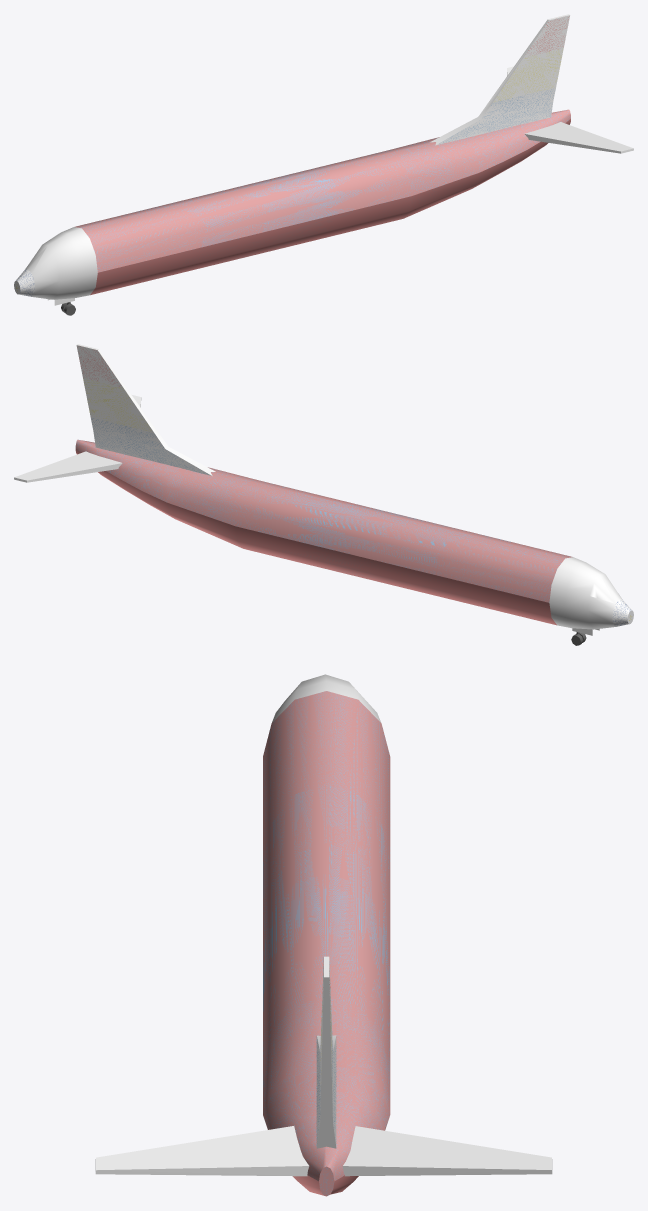
Rendered from airplane_body.dae.
3 views of the same model, one above another, from view 1: azimuth 30°, elevation 25°; view 2: azimuth 150°, elevation 25°; view 3: azimuth 270°, elevation 25° (orthographic). The views are drawn at different scales.
Visible parts, largest first — view 1: SketchUp_040; view 2: SketchUp_040; view 3: SketchUp_040.
Boxes of the visible parts, bbox=[...] form: SketchUp_040: bbox=[14, 14, 633, 315]; SketchUp_040: bbox=[14, 344, 633, 645]; SketchUp_040: bbox=[95, 674, 552, 1196].
Bounding box in the file's own units: 9.92 × 3.51 × 3.
